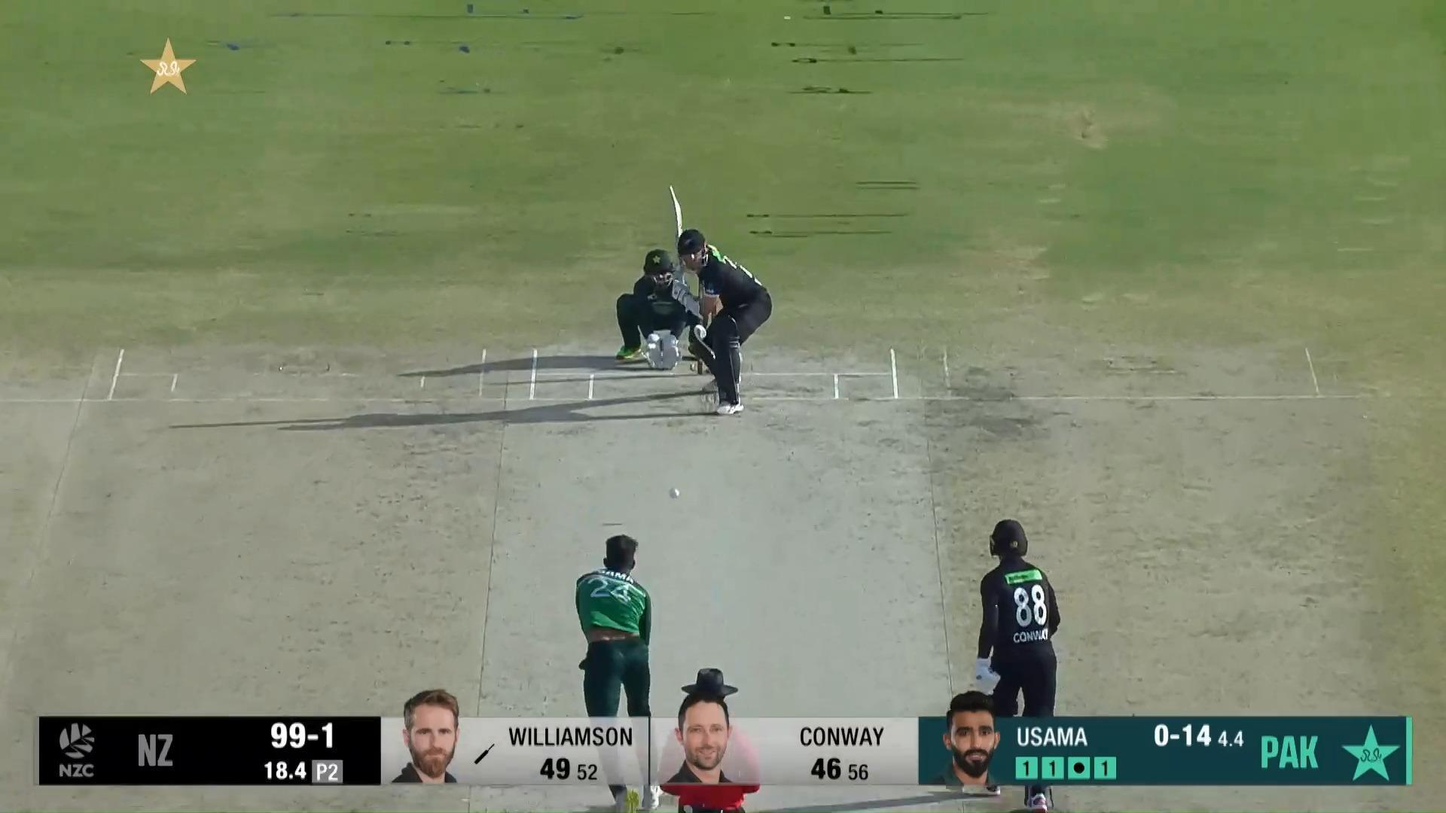BM 1: (669, 185, 773, 416)
BO: (575, 533, 664, 813)
